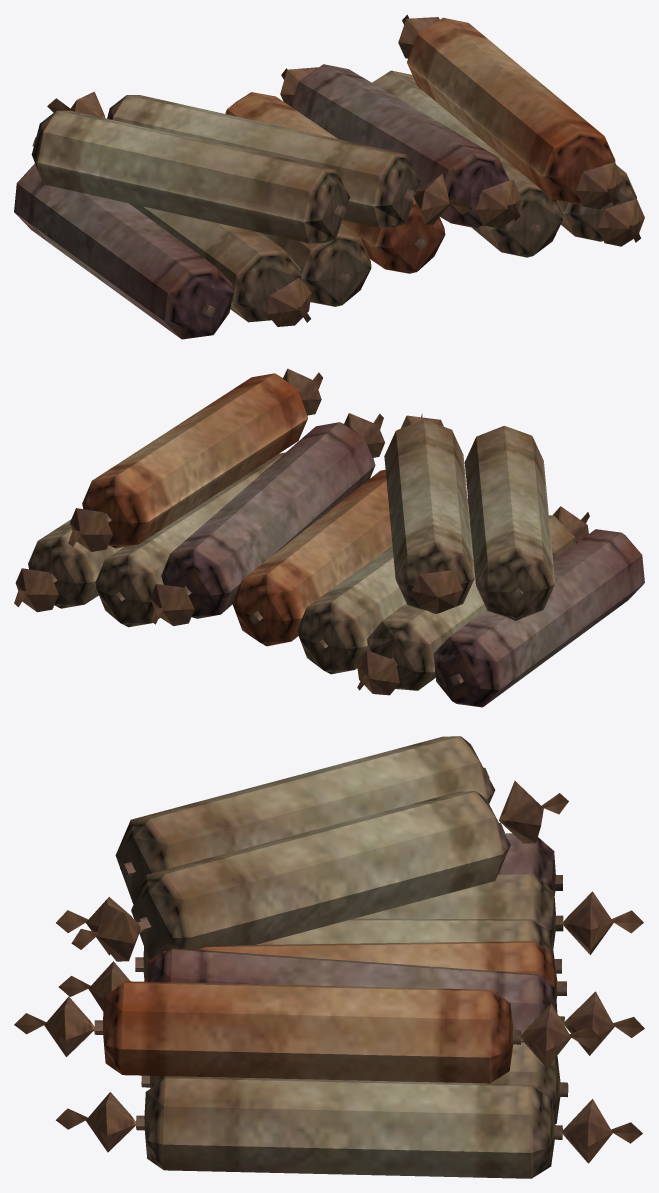
Rendered from WoodJuanZhou.fbx.
3 renders of one model, top to bottom at view 1: azimuth 30°, elevation 25°; view 2: azimuth 150°, elevation 25°; view 3: azimuth 270°, elevation 25°, orthographic. The views are drawn at different scales.
Visible parts, largest first — view 1: 3D_WoodJuanZhou.mo; view 2: 3D_WoodJuanZhou.mo; view 3: 3D_WoodJuanZhou.mo.
Boxes of the visible parts, left/top/right/bottom form: 3D_WoodJuanZhou.mo: left=14, top=14, right=644, bottom=339; 3D_WoodJuanZhou.mo: left=14, top=368, right=644, bottom=707; 3D_WoodJuanZhou.mo: left=14, top=736, right=644, bottom=1178.
Size of the model in its own units: 19.66 by 5.47 by 17.45.
1 material, 1 textured.
